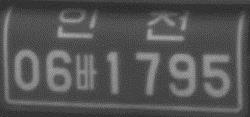0: (13, 49, 40, 91)
1: (104, 50, 122, 95)
5: (202, 52, 230, 100)
6: (44, 49, 72, 93)
7: (133, 51, 163, 97)
9: (167, 52, 197, 97)
바: (74, 53, 98, 90)
인천_D: (55, 6, 190, 42)
